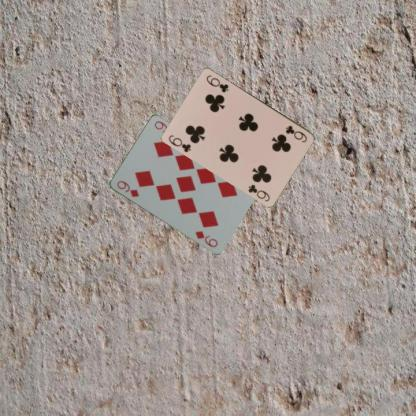6c: (283, 122, 309, 144), (166, 132, 192, 154)
9d: (114, 178, 140, 198)
